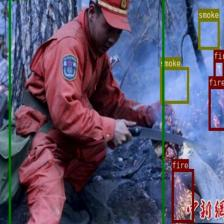fire: (171, 169, 194, 222), (208, 86, 224, 130), (213, 59, 224, 80)
smoke: (159, 67, 189, 103), (198, 18, 219, 50)
